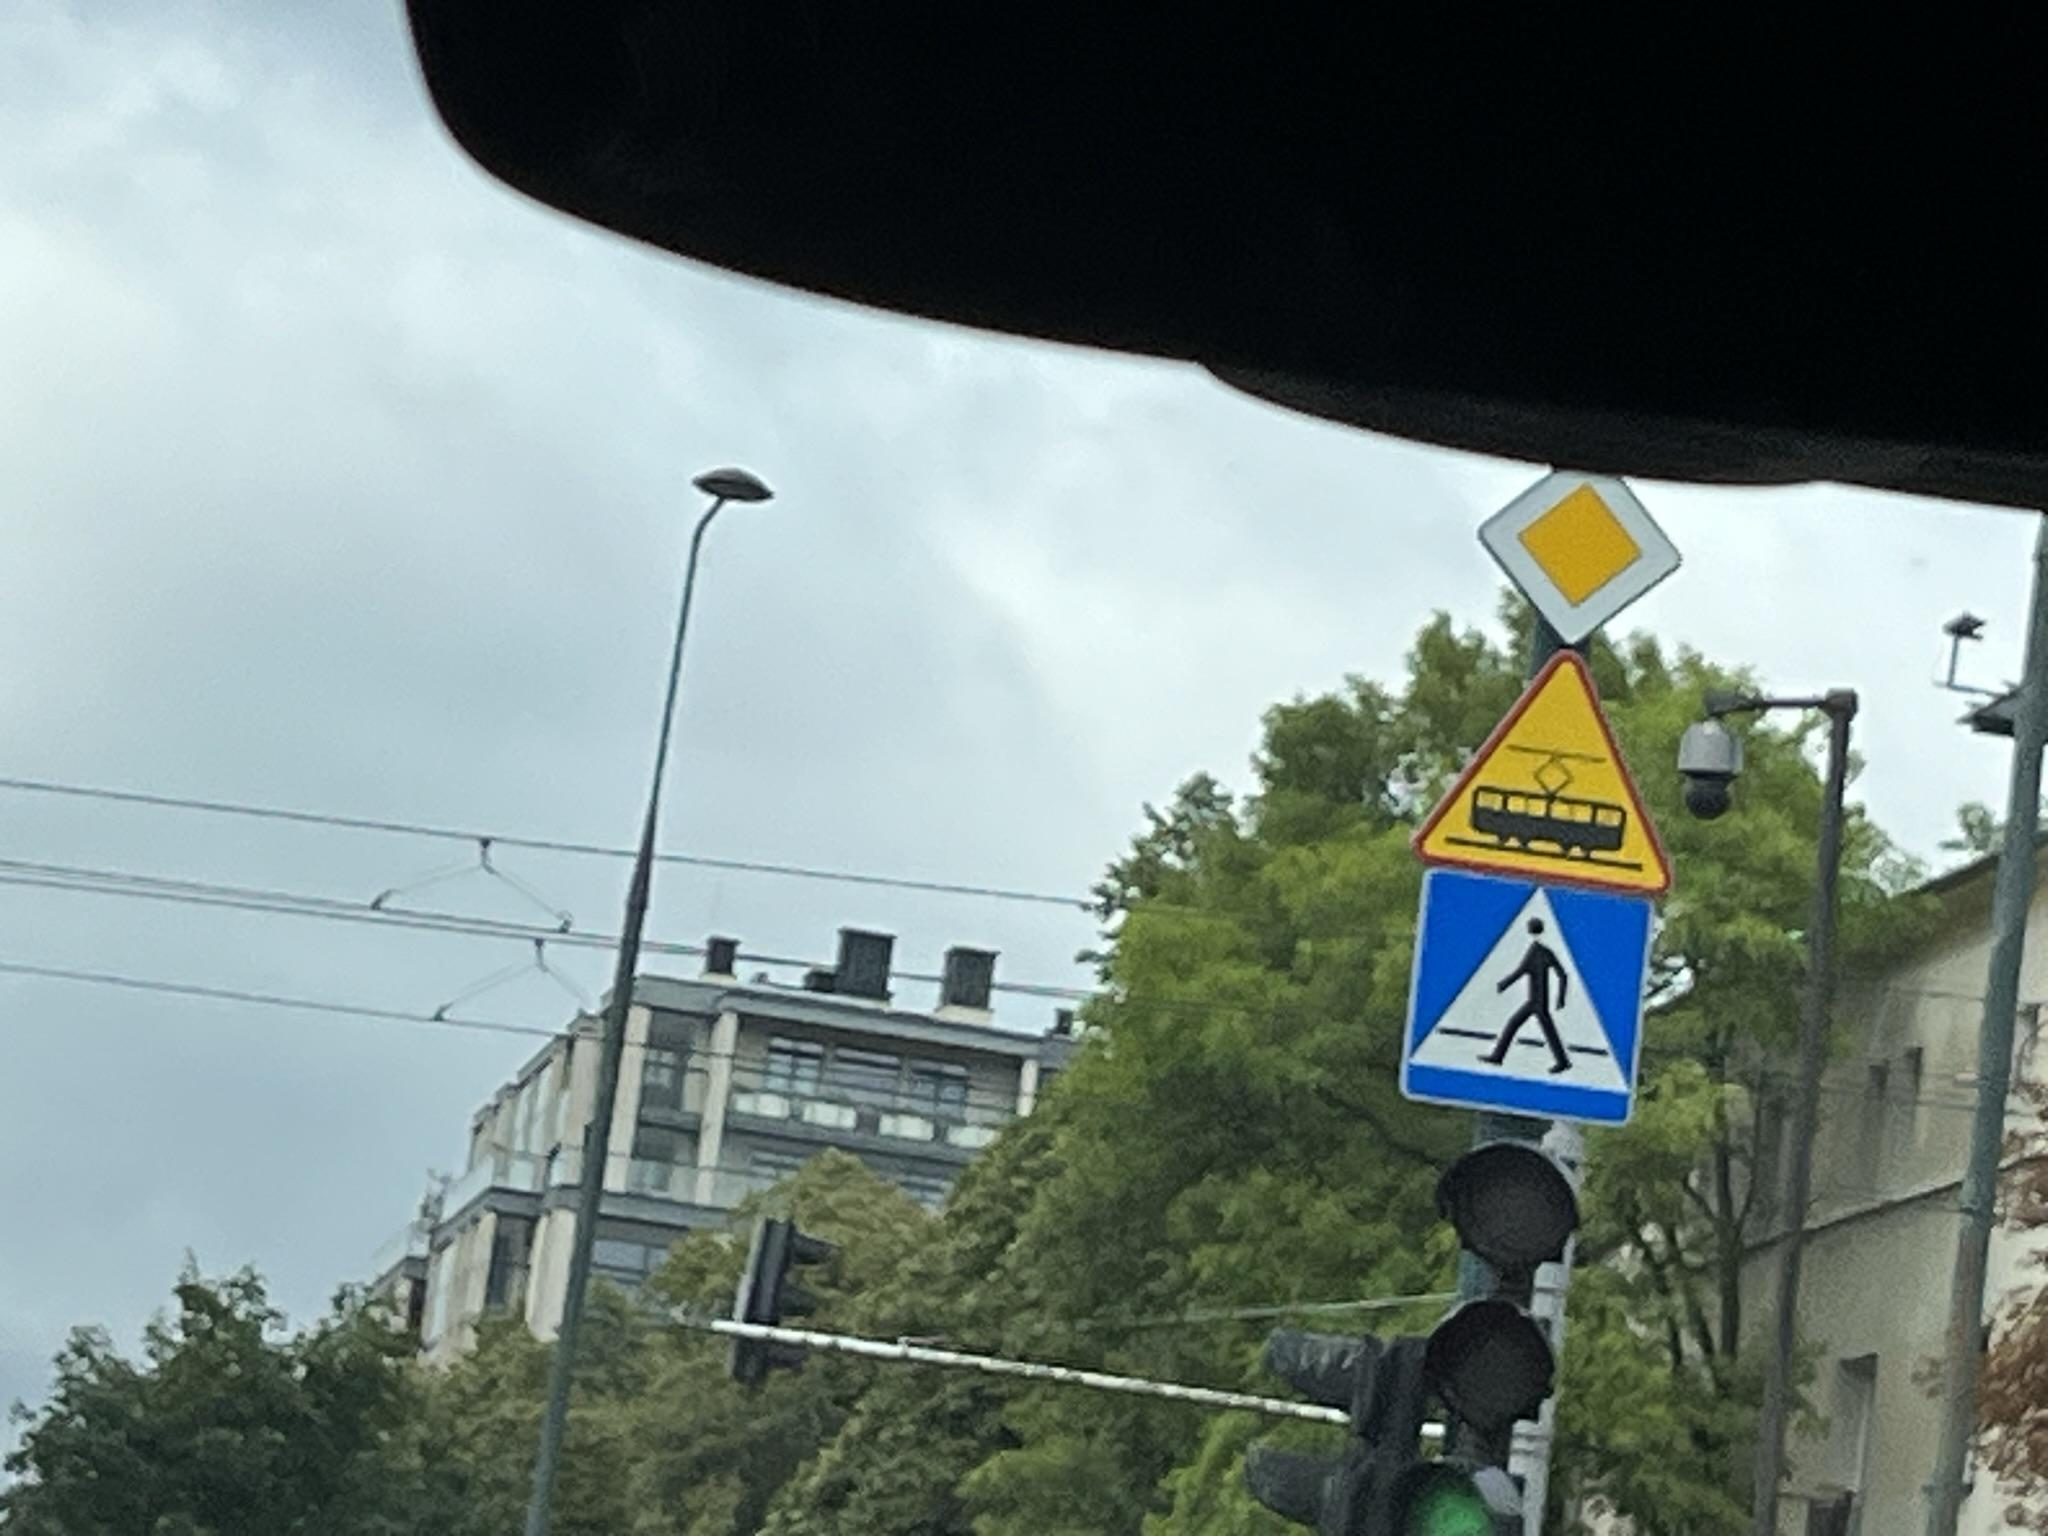information: (1397, 865, 1658, 1126), (1476, 445, 1684, 653)
warning: (1413, 649, 1672, 900)
